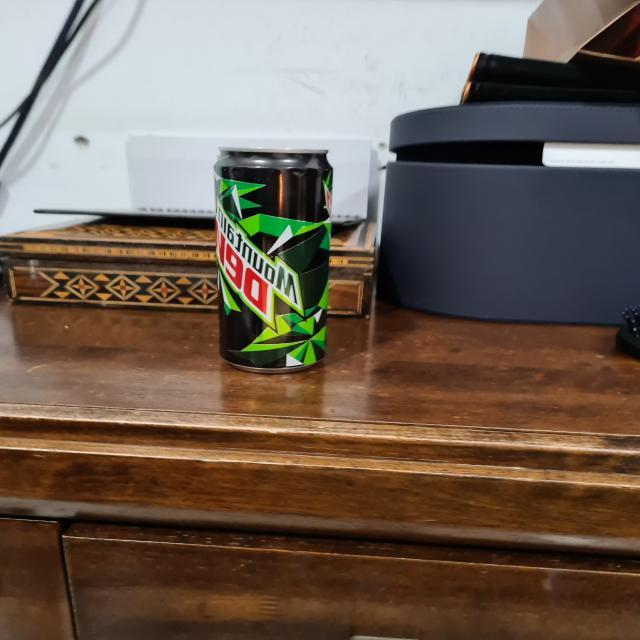can: (210, 143, 343, 370)
